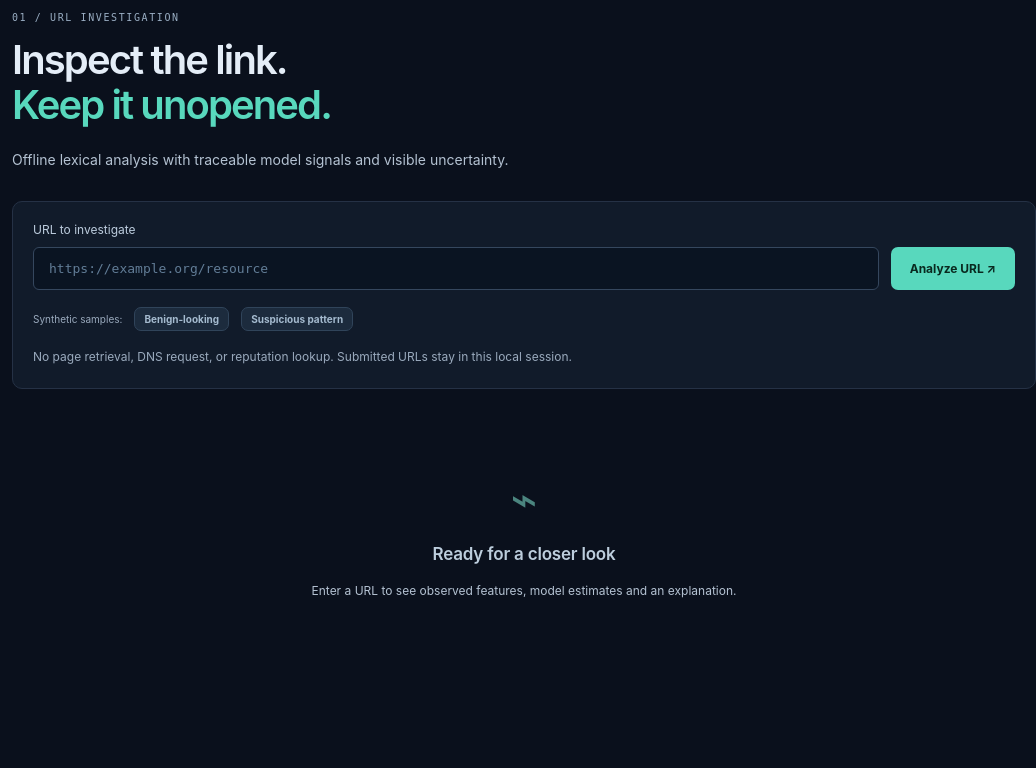
Test case: shows server errors without interpreting hostile strings as markup
Type "https://example.org" into the field labelled "URL to investigate" at (456, 269), box [33,247,879,290]
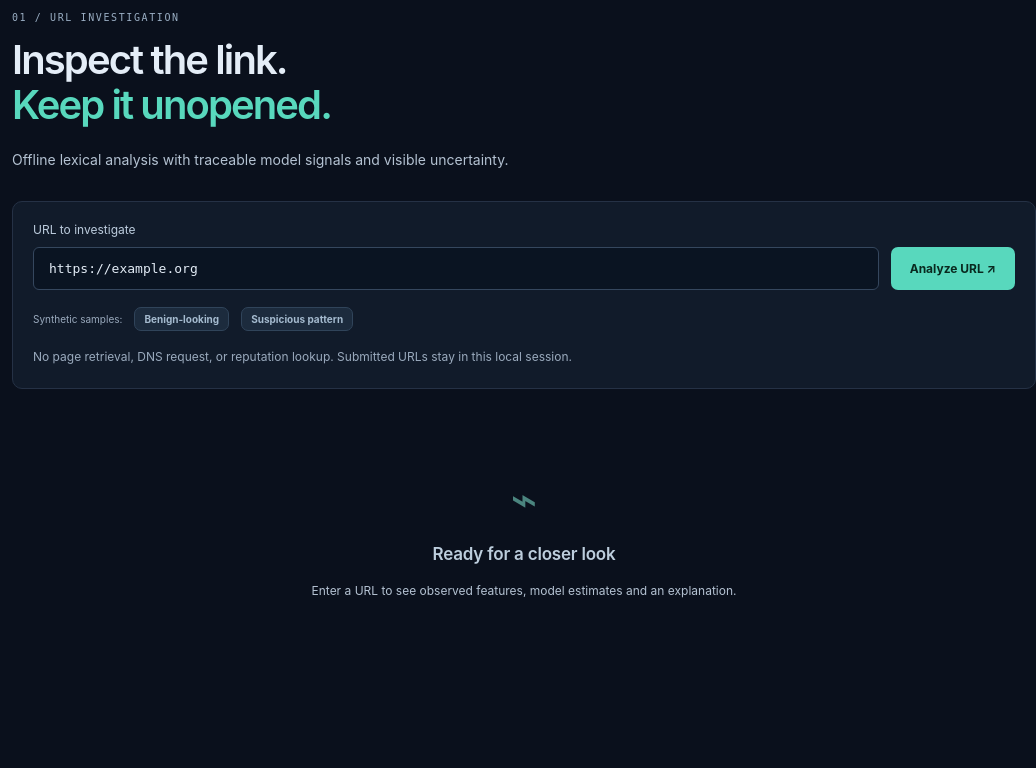
Click the button "Analyze URL ↗" at (953, 269), box [891,247,1015,290]
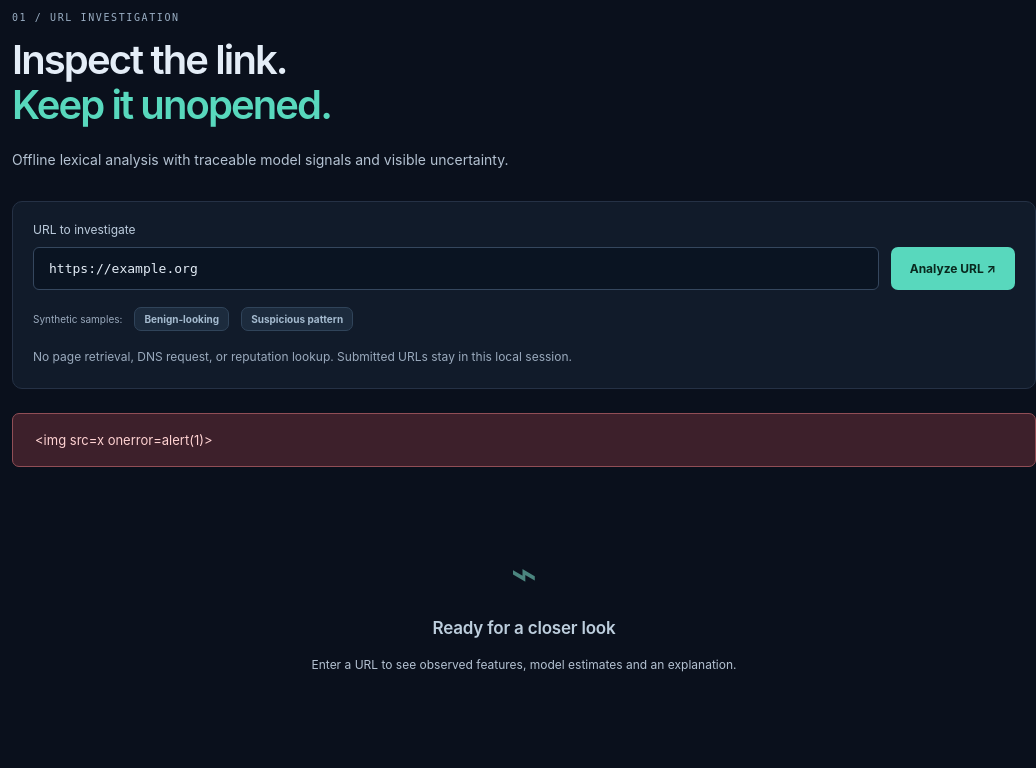
Check: the message shows "<img", box [35,432,212,448]
